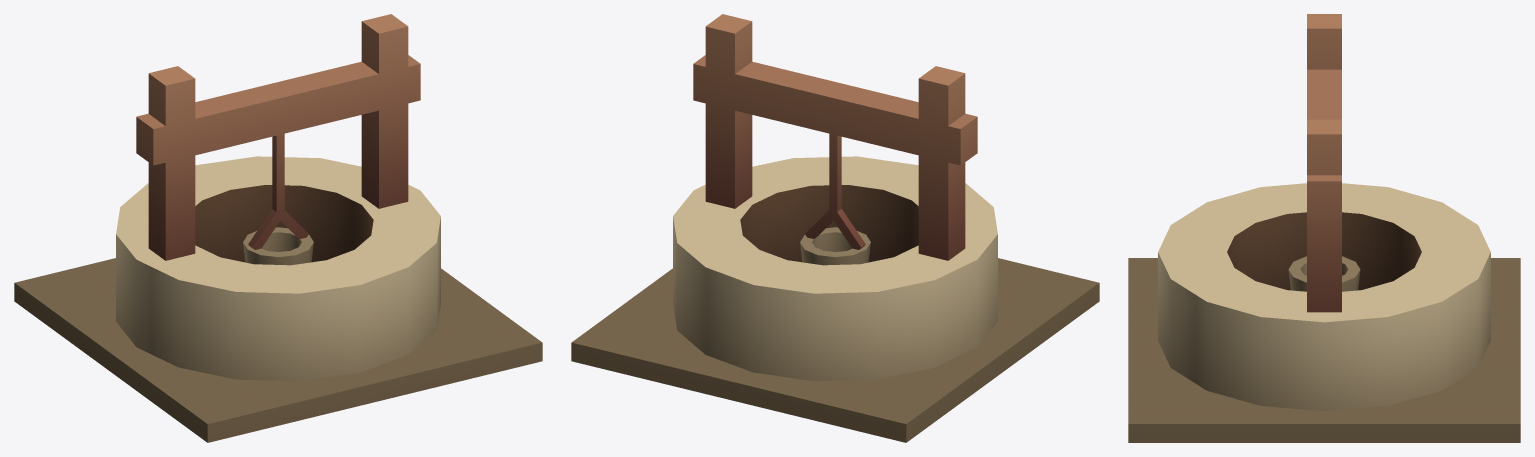
Rendered from SM_Well_Round.fbx.
The picture shows the model from 3 angles, left to right: view 1: azimuth 30°, elevation 25°; view 2: azimuth 150°, elevation 25°; view 3: azimuth 270°, elevation 25°; orthographic projection.
Parts seen in each view (by area): view 1: Well_Round; view 2: Well_Round; view 3: Well_Round.
Part boxes in pixels (bbox=[...]): Well_Round: bbox=[14, 14, 542, 442]; Well_Round: bbox=[571, 14, 1099, 442]; Well_Round: bbox=[1128, 14, 1520, 442].
Size of the model in its own units: 400 by 321 by 400.
